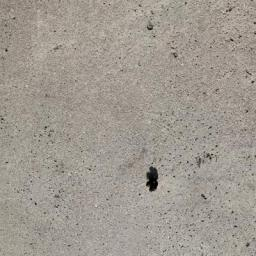FOD: (146, 166, 162, 195)
